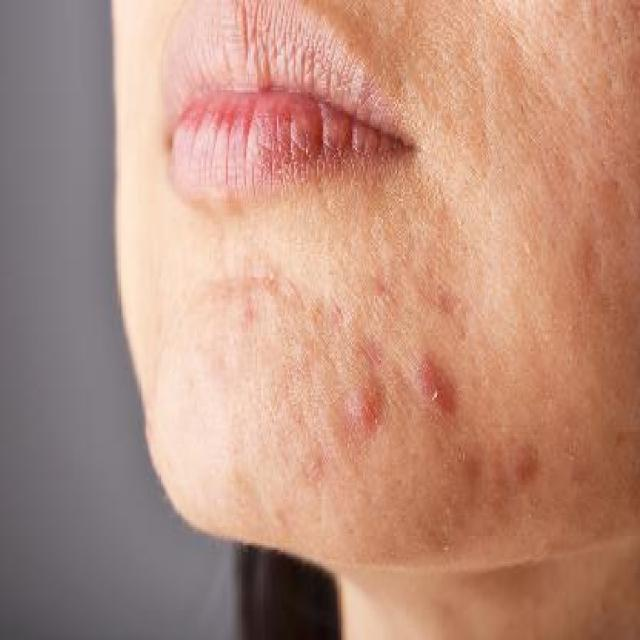Acne: (334, 364, 400, 451), (411, 346, 463, 430), (506, 436, 541, 503)
